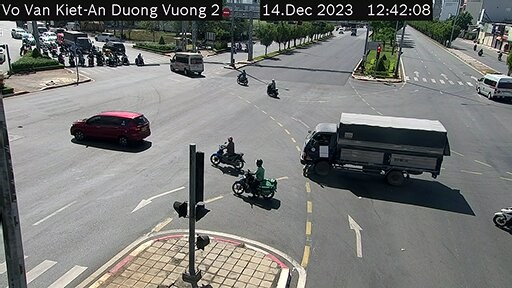car: (69, 103, 161, 150), (169, 52, 210, 82), (481, 69, 511, 102), (105, 41, 127, 52)
motorbike: (238, 156, 278, 197), (214, 134, 249, 169), (493, 198, 512, 236), (266, 76, 285, 98), (232, 68, 251, 89), (134, 54, 149, 69)
truck: (298, 104, 451, 182), (66, 29, 93, 52)
